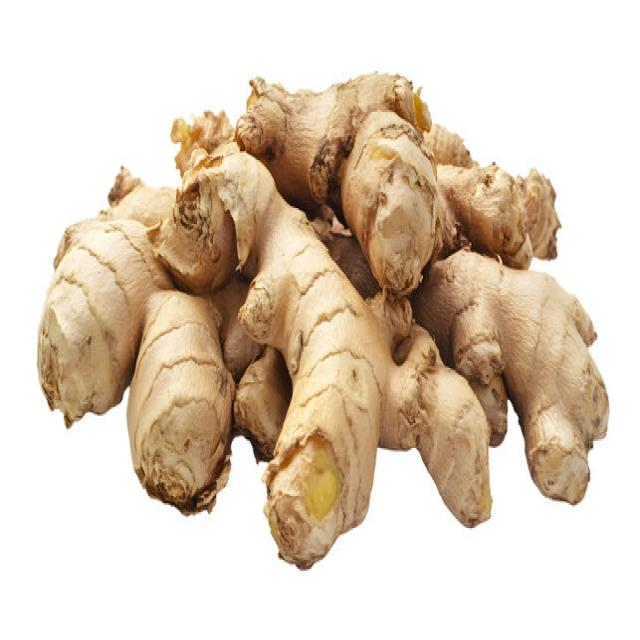Ginger: (42, 98, 242, 448), (412, 245, 609, 505), (234, 69, 439, 297), (245, 306, 406, 565), (408, 90, 582, 242), (125, 286, 235, 516)
